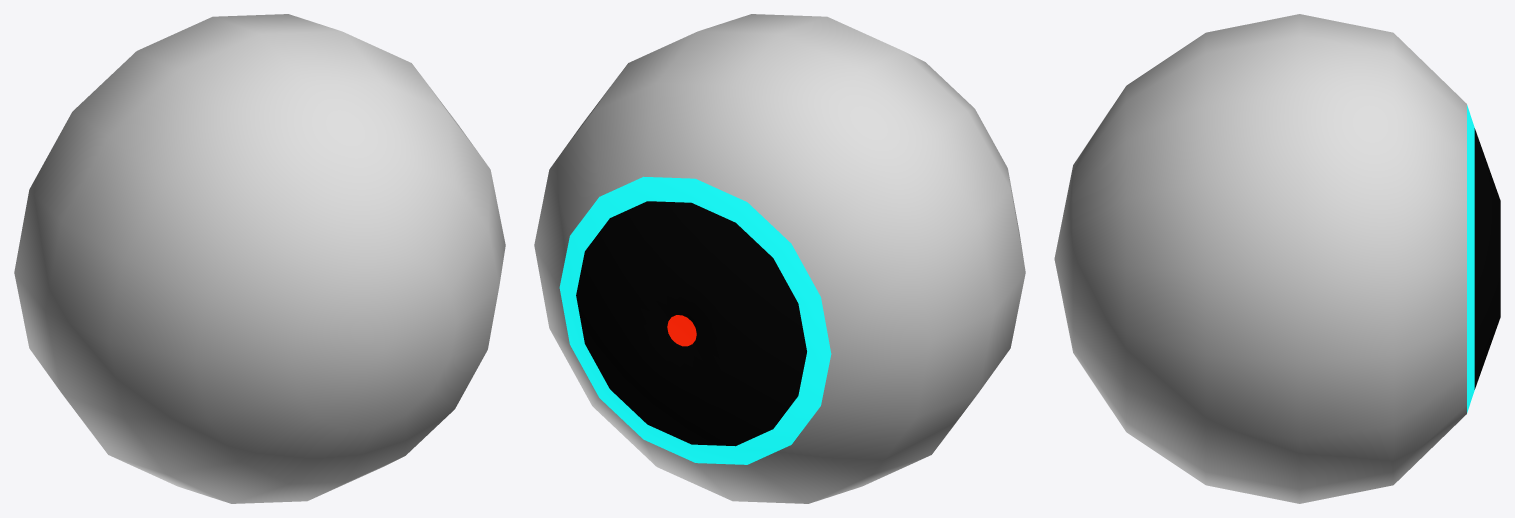
File: eyeball.glb
The picture shows the model from 3 angles, left to right: view 1: azimuth 30°, elevation 25°; view 2: azimuth 150°, elevation 25°; view 3: azimuth 270°, elevation 25°; orthographic projection.
Visible parts, largest first — view 1: Sphere; view 2: Sphere; view 3: Sphere.
Part boxes in pixels (x1,y1,x2,y2): Sphere: (14, 14, 505, 503); Sphere: (534, 14, 1025, 503); Sphere: (1054, 14, 1500, 503).
Bounding box in the file's own units: 1 × 1 × 0.9096.
